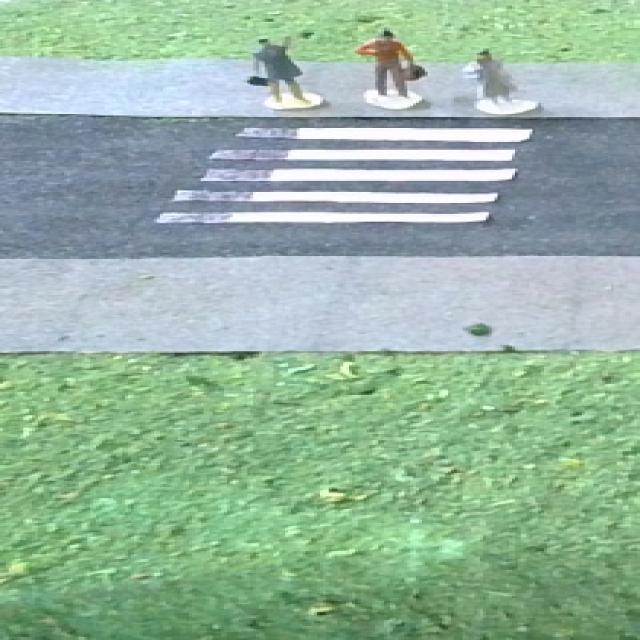person: (245, 26, 325, 111), (352, 27, 427, 110), (465, 48, 536, 115)
